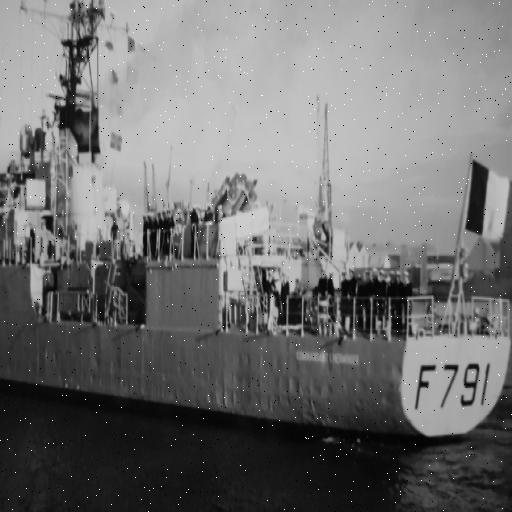Fragata: (1, 1, 510, 447)
